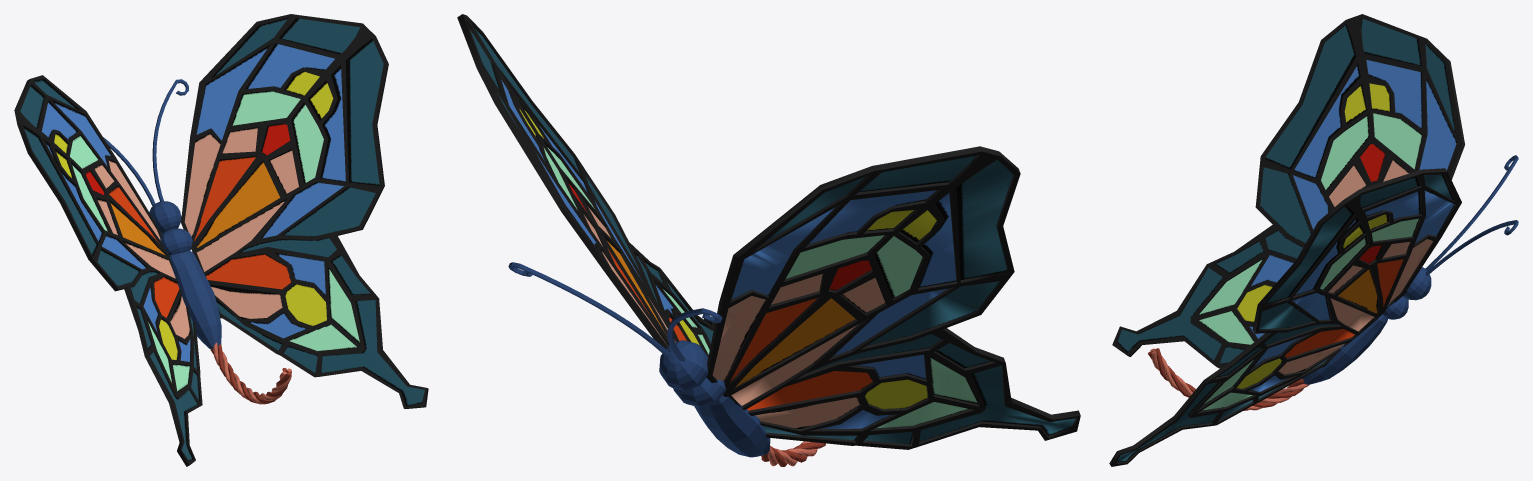
File: AliceFlowtBomb.fbx
3 views of the same model, side by side, from view 1: azimuth 30°, elevation 25°; view 2: azimuth 150°, elevation 25°; view 3: azimuth 270°, elevation 25° (orthographic). The views are drawn at different scales.
Parts seen in each view (by area): view 1: polySurface125; view 2: polySurface125; view 3: polySurface125.
Part boxes in pixels (<box>): polySurface125: <box>14,14,428,466</box>; polySurface125: <box>457,14,1080,466</box>; polySurface125: <box>1109,14,1518,466</box>.
Bounding box in the file's own units: 1.37 × 1.27 × 1.07.
5 materials, 5 textured.
